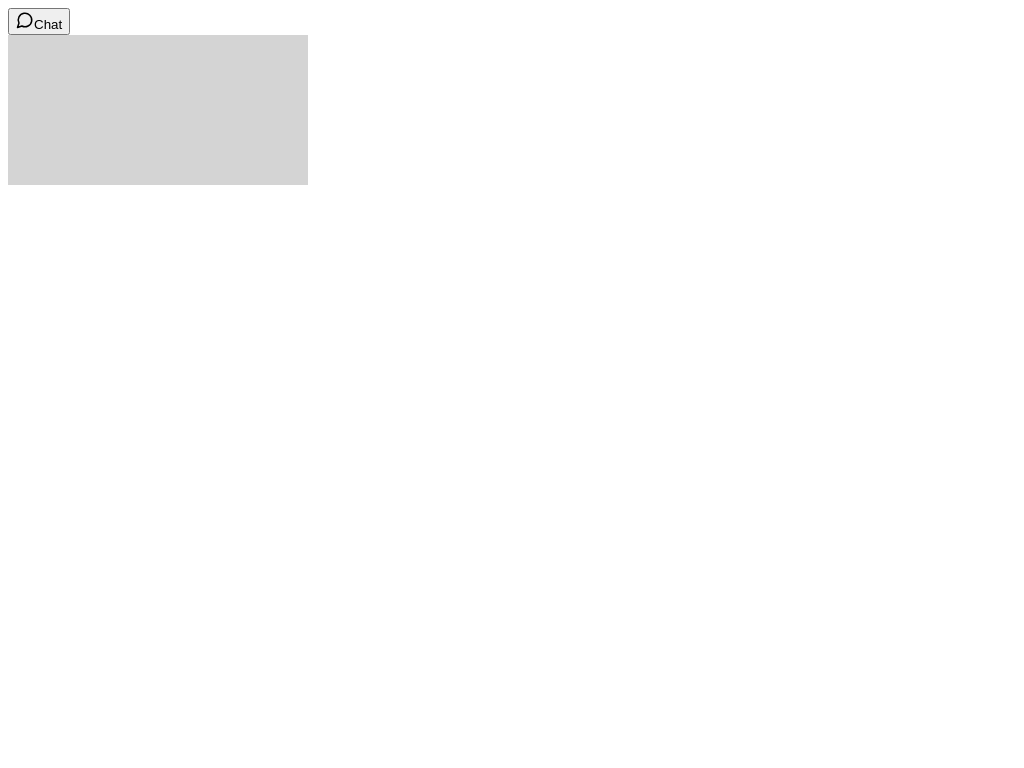
Test case: Imitation chat › keeps the studio mounted and the draft intact when the temporary chat closes
Click the button "Chat".
click(39, 22)  # box [8, 8, 70, 35]
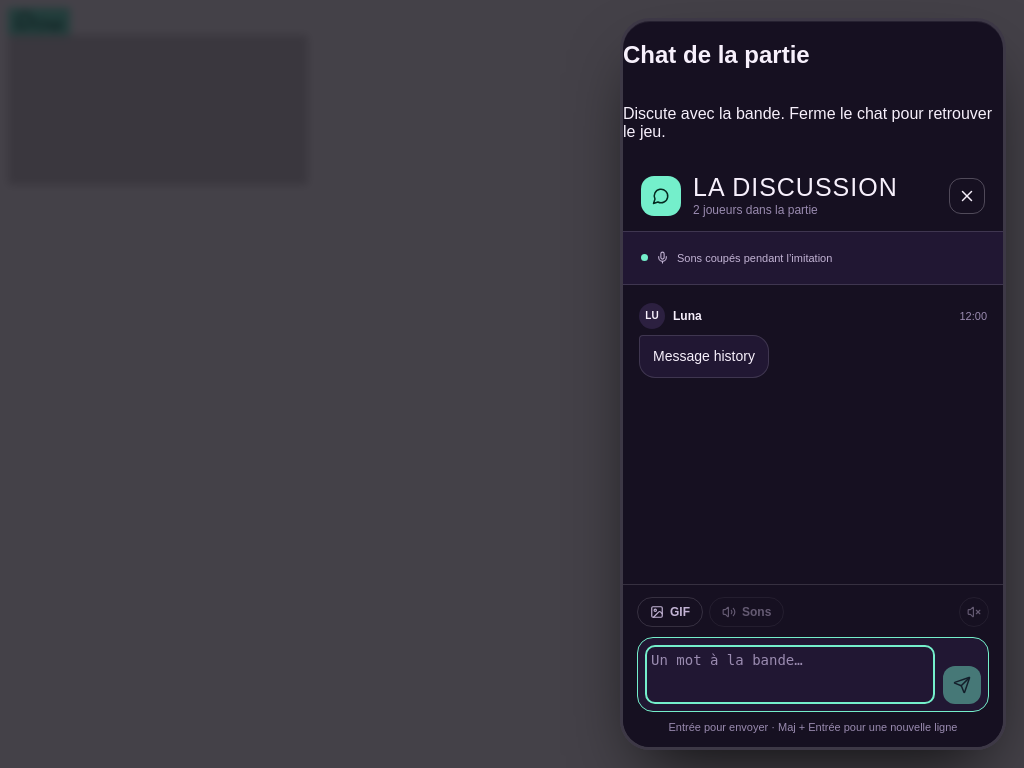
Type "On se retrouve au vote" into the text box.
click(790, 674); type("On se retrouve au vote")  # box [645, 645, 935, 704]
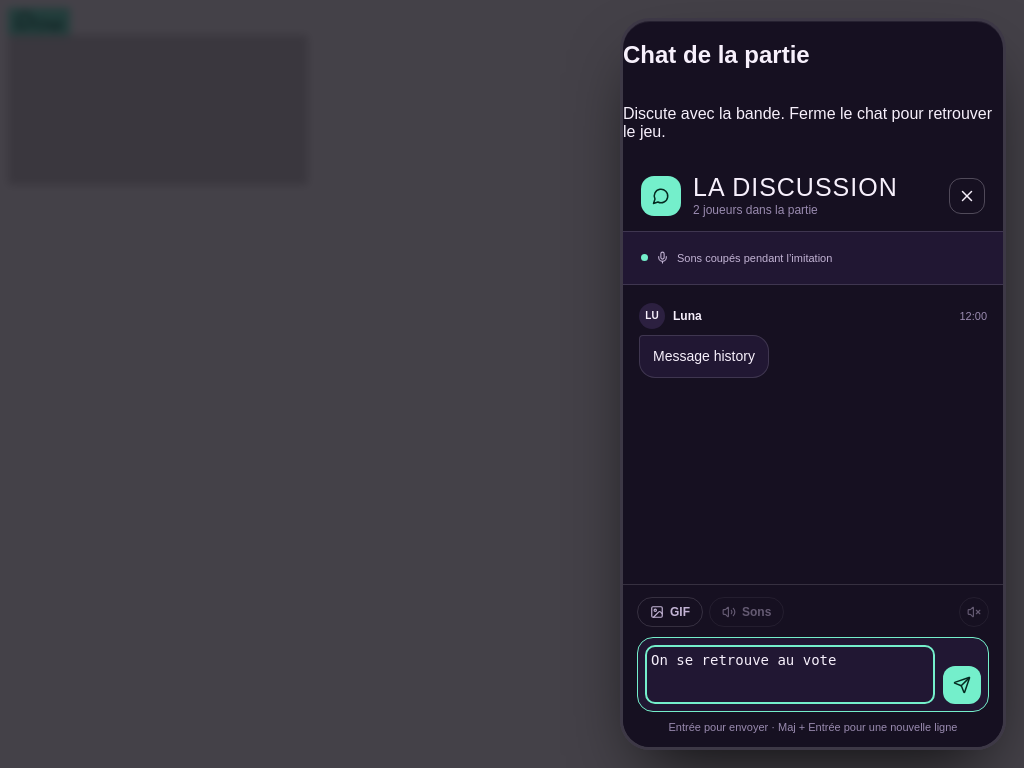
Click the button named "Fermer le chat".
click(967, 196)  # box [949, 178, 985, 214]
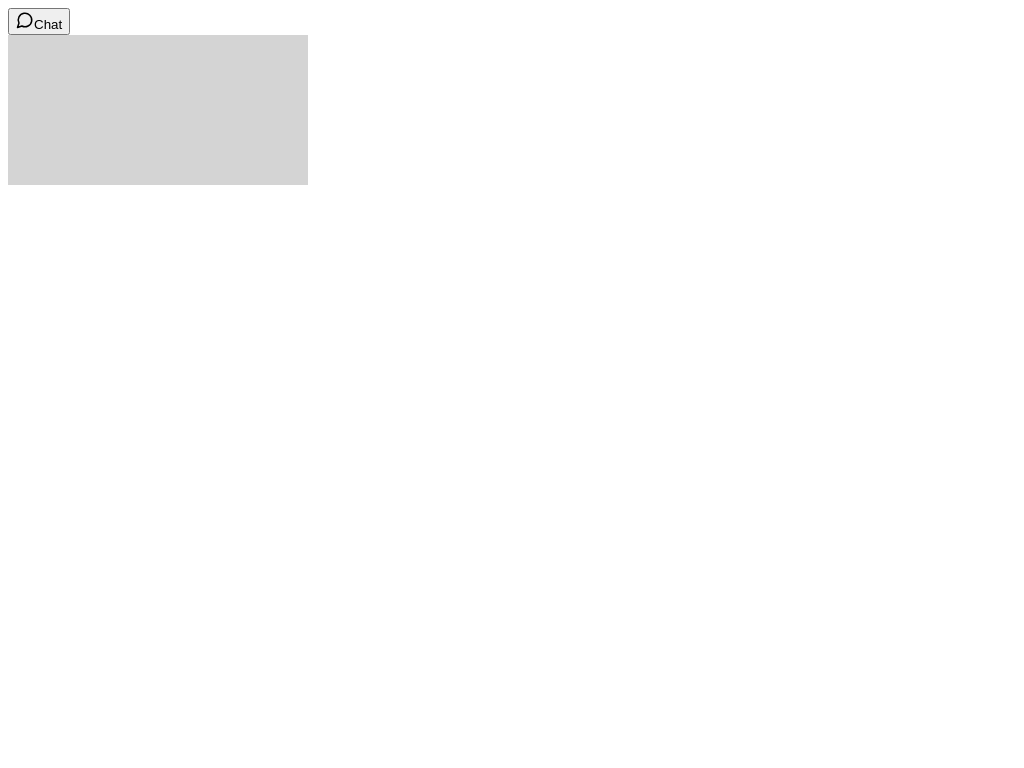
Click the button "Chat".
click(39, 22)  # box [8, 8, 70, 35]
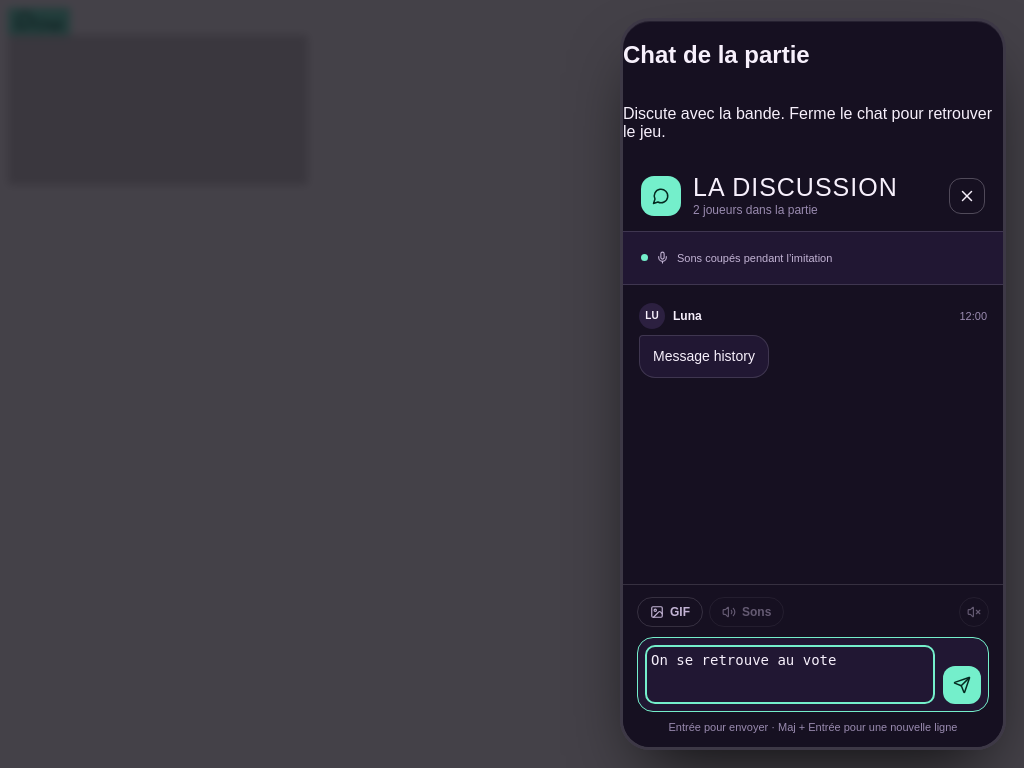
Now the text box holds "On se retrouve au vote", box [645, 645, 935, 704]
